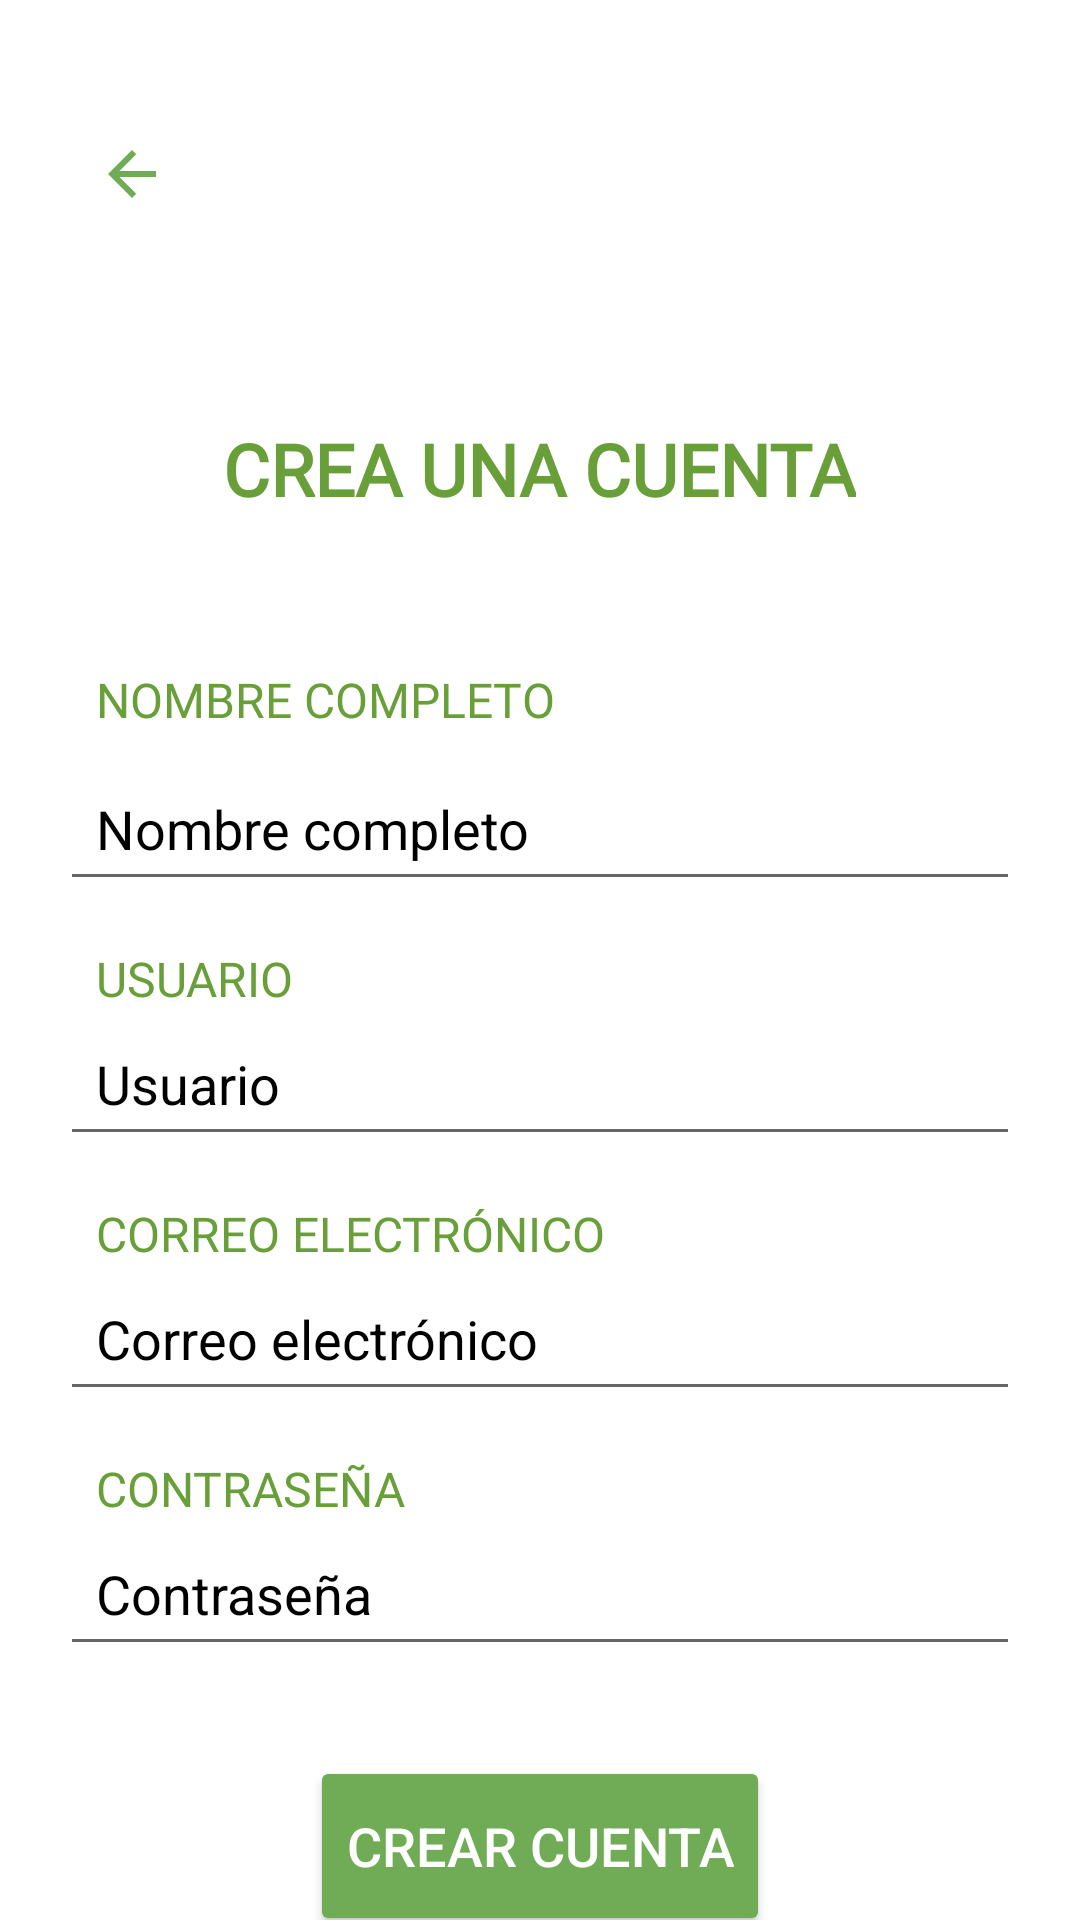

Where icons sit on this 1080 × 1920 app screen, as (x1, y1, x2, y2):
Volver: (108, 150, 156, 198)
